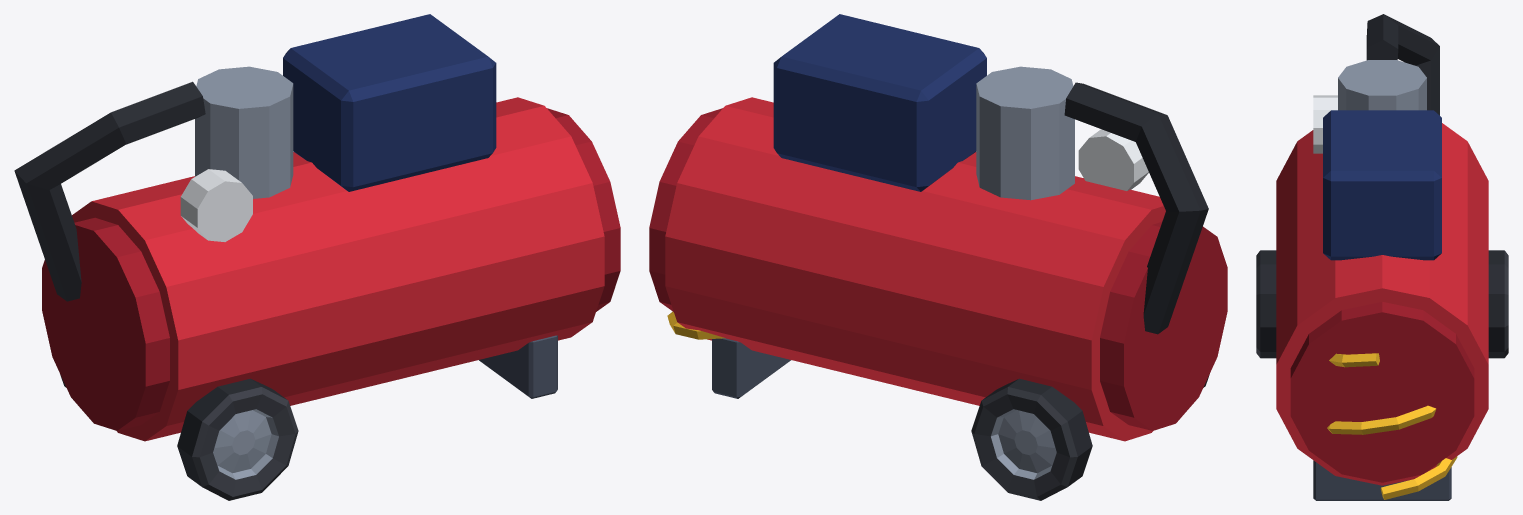
The model's file is AirCompressor.fbx.
3 renders of one model, left to right at view 1: azimuth 30°, elevation 25°; view 2: azimuth 150°, elevation 25°; view 3: azimuth 270°, elevation 25°, orthographic. The views are drawn at different scales.
Parts seen in each view (by area): view 1: AirCompressor; view 2: AirCompressor; view 3: AirCompressor.
Boxes of the visible parts, x1,y1,x2,y2 form: AirCompressor: (14,14,620,500); AirCompressor: (649,14,1227,500); AirCompressor: (1256,14,1508,500).
Size of the model in its own units: 5.65 by 3.58 by 2.55.
Materials: 1 (1 with a texture image).
